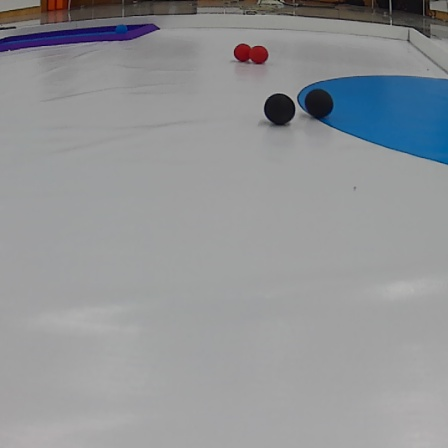black: (260, 90, 297, 125), (302, 88, 335, 118)
blue: (114, 22, 130, 35)
blue_aim: (1, 21, 161, 55)
blue_base: (292, 71, 448, 168)
red: (232, 40, 250, 63), (248, 44, 269, 63)
